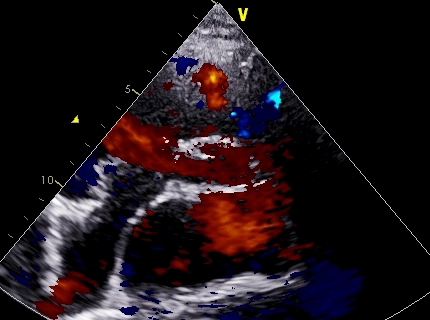TR: (104, 145, 201, 237)
